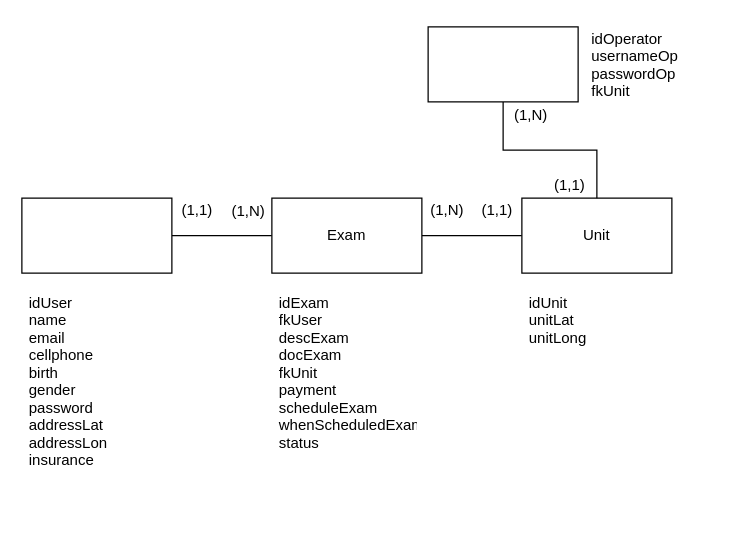
Image size: 756x560. Some labels were removed from this diagram. Each missing label, with the centre of its shape:
Operator: [502,64]
User: [96,235]
